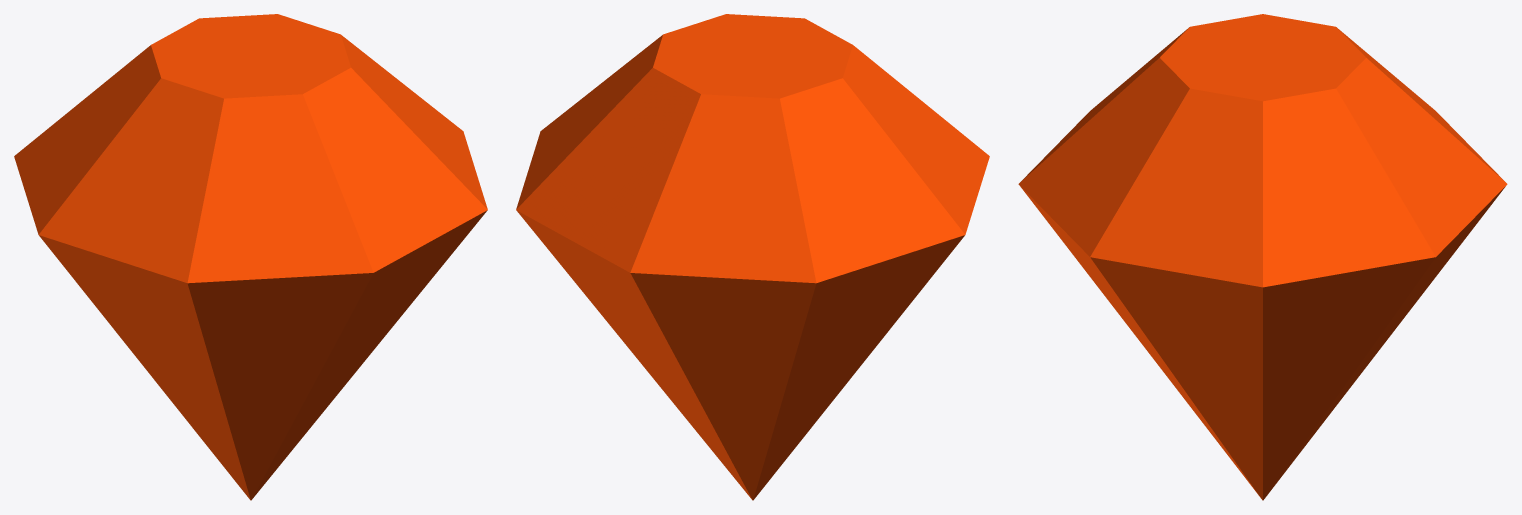
File: zuanshi.fbx
3 renders of one model, left to right at view 1: azimuth 30°, elevation 25°; view 2: azimuth 150°, elevation 25°; view 3: azimuth 270°, elevation 25°, orthographic.
Parts seen in each view (by area): view 1: ZS; view 2: ZS; view 3: ZS.
Boxes of the visible parts, x1,y1,x2,y2 form: ZS: (14, 14, 487, 500); ZS: (516, 14, 989, 500); ZS: (1018, 14, 1507, 500).
Bounding box in the file's own units: 2 × 2 × 2.
